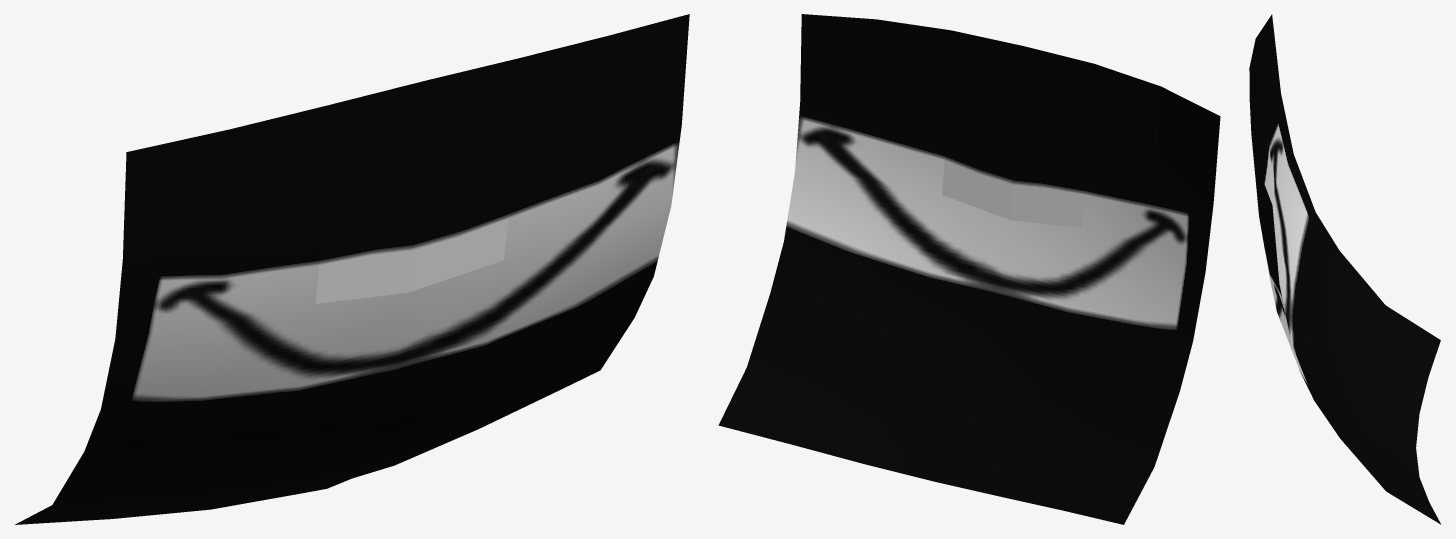
Rendered from Smile 6.glb.
3 renders of one model, left to right at view 1: azimuth 30°, elevation 25°; view 2: azimuth 150°, elevation 25°; view 3: azimuth 270°, elevation 25°, orthographic. The views are drawn at different scales.
Parts seen in each view (by area): view 1: smile_6; view 2: smile_6; view 3: smile_6.
Part boxes in pixels (x1,y1,x2,y2): smile_6: (15,14,689,524); smile_6: (718,14,1220,524); smile_6: (1249,14,1440,524).
Size of the model in its own units: 0.00274 by 0.00232 by 0.00116.
1 material, 1 textured.
